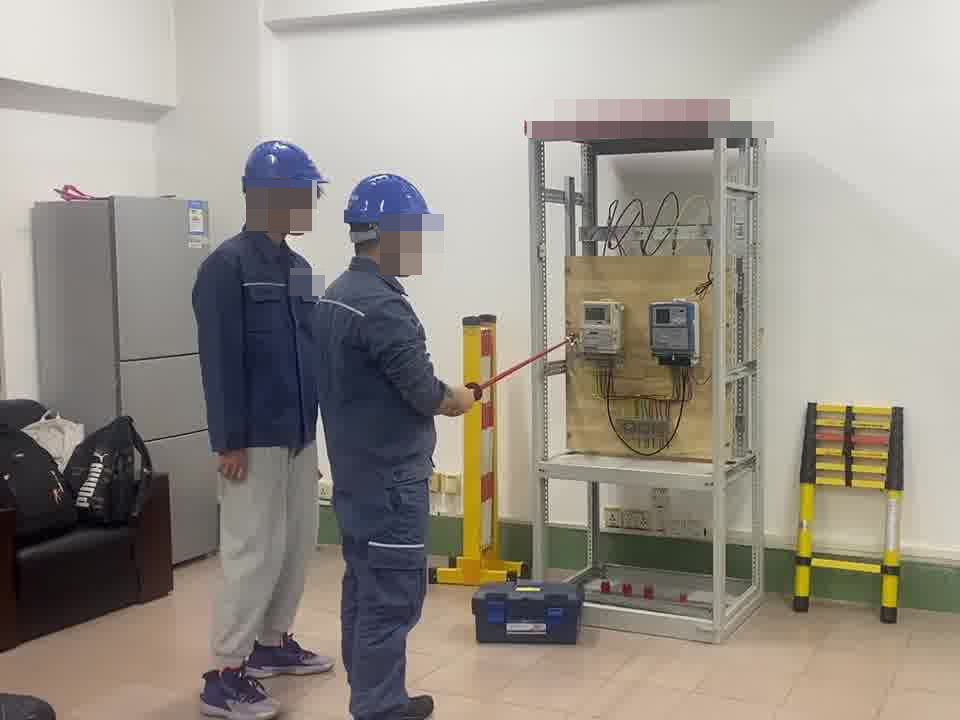downcloth: (212, 454, 321, 651)
downsuit: (332, 483, 433, 720)
halt: (341, 171, 439, 276), (240, 140, 331, 237)
hand: (445, 382, 477, 422), (215, 449, 251, 481)
inear: (371, 219, 414, 266), (251, 181, 288, 226)
person: (190, 136, 331, 720), (314, 162, 460, 720)
testrod: (468, 337, 581, 400)
upsuit: (189, 219, 318, 454), (318, 259, 445, 476)
